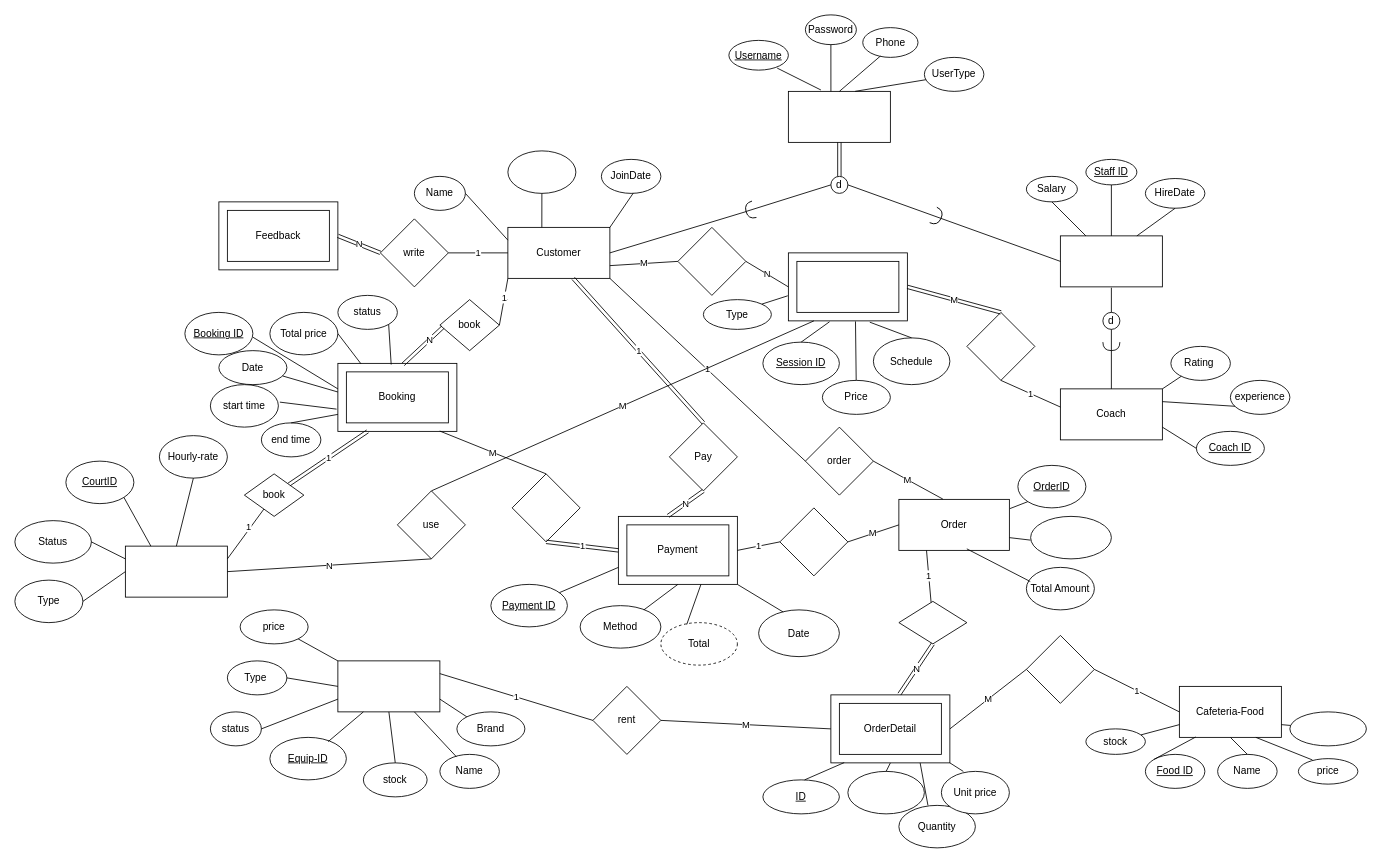
The diagram is 1381 pixels wide and 863 high, and some of its shapes have lost their labels. Each missing label, with the box of its shape:
category: (1289, 711, 1366, 746)
Court: (125, 545, 227, 597)
court bill: (511, 473, 580, 542)
CustomerID: (507, 150, 576, 193)
details: (898, 601, 967, 644)
enrol: (677, 227, 746, 295)
Equipments: (337, 660, 440, 712)
ItemType: (847, 771, 924, 814)
order bill: (779, 507, 848, 576)
Order Date: (1030, 516, 1111, 559)
order-food: (1026, 635, 1094, 703)
Staff: (1060, 235, 1162, 287)
teach: (966, 312, 1035, 380)
Training sessions: (796, 261, 899, 312)
User: (788, 91, 890, 142)
